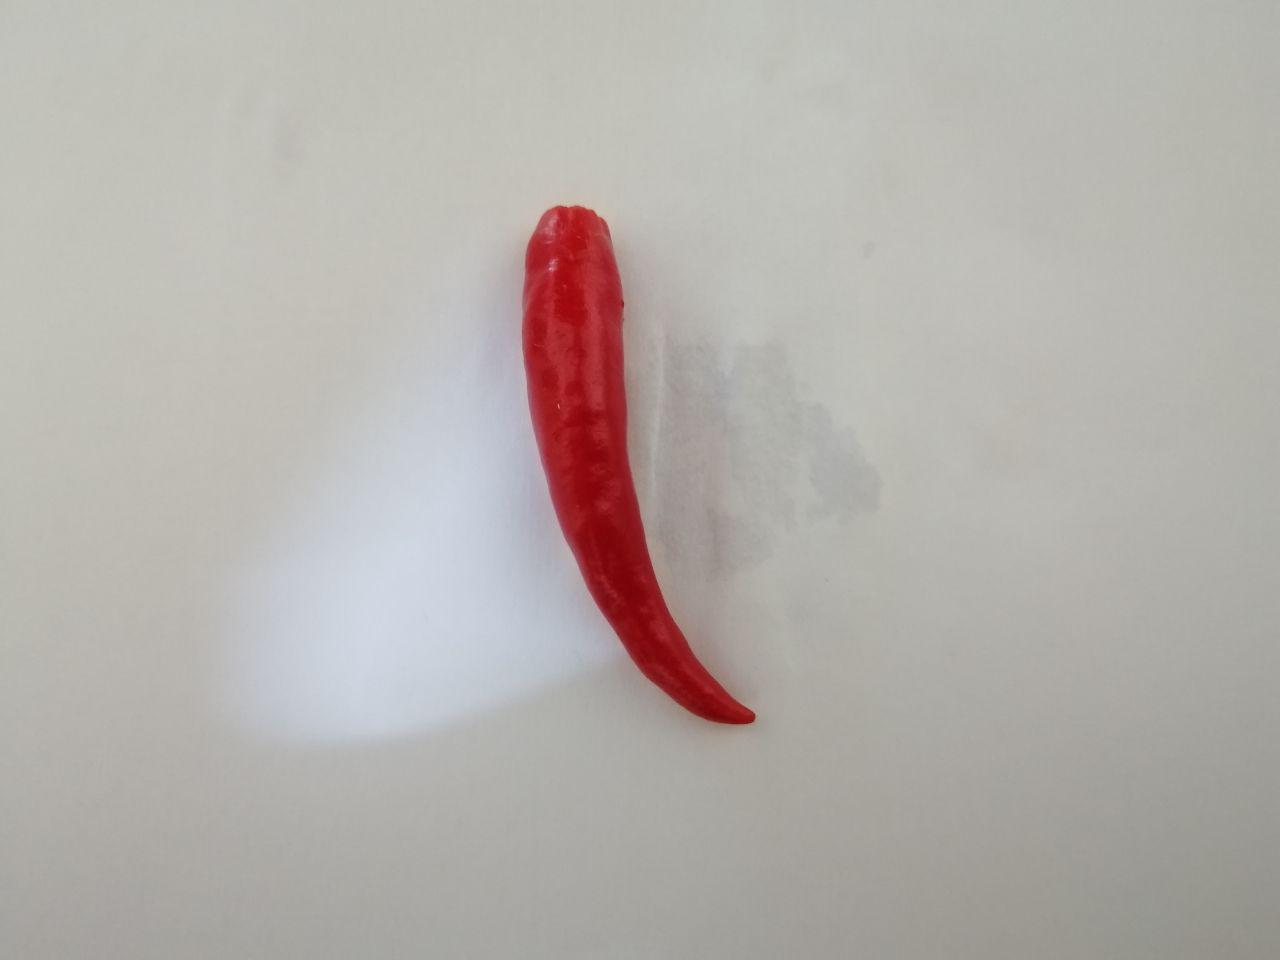lada merah: (503, 194, 768, 730)
